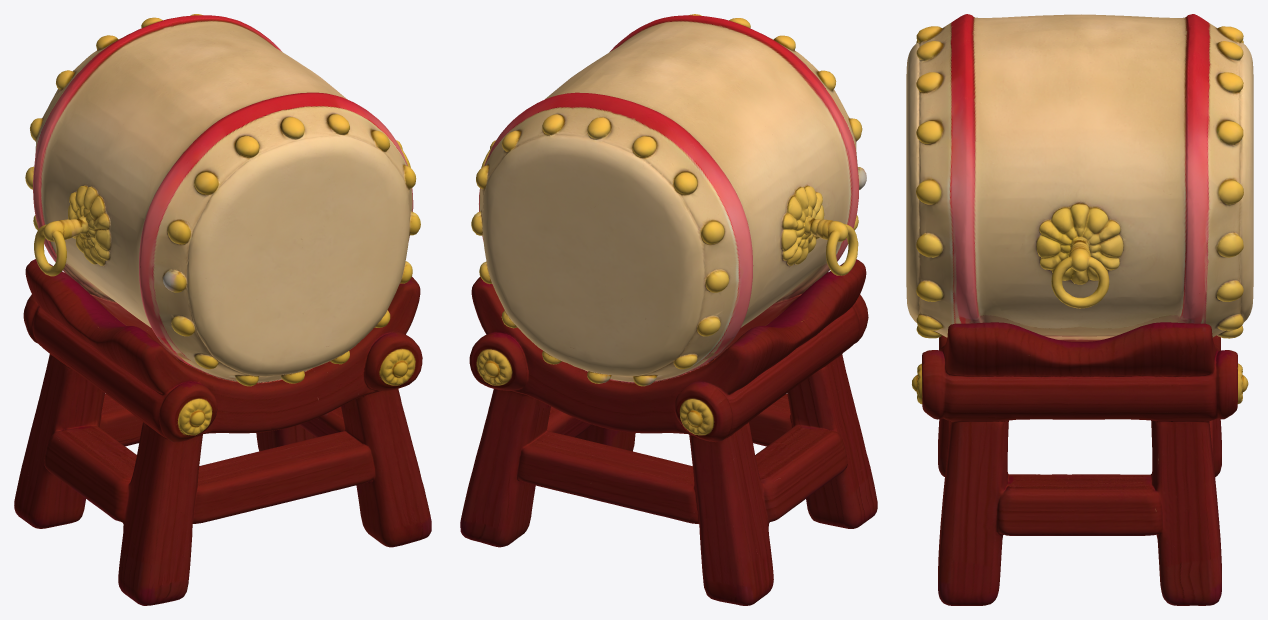
The model's file is prop_drum.glb.
3 renders of one model, left to right at view 1: azimuth 30°, elevation 25°; view 2: azimuth 150°, elevation 25°; view 3: azimuth 270°, elevation 25°, orthographic. The views are drawn at different scales.
Bounding box in the file's own units: 1.51 × 1.9 × 1.18.
1 material, 1 textured.
